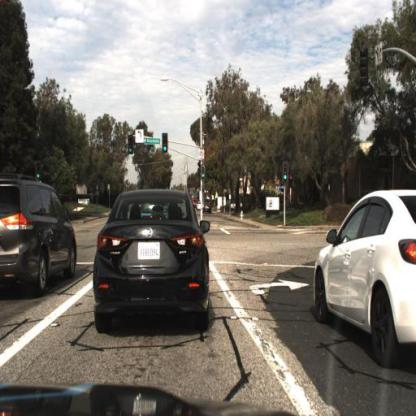car: (310, 182, 415, 372), (92, 186, 209, 332), (0, 176, 77, 294), (201, 200, 213, 219)
trafficLight-Green: (160, 132, 168, 156), (281, 160, 289, 182), (199, 163, 206, 182)
trafficLight-GreenLeft: (31, 164, 44, 184), (127, 130, 135, 158)
